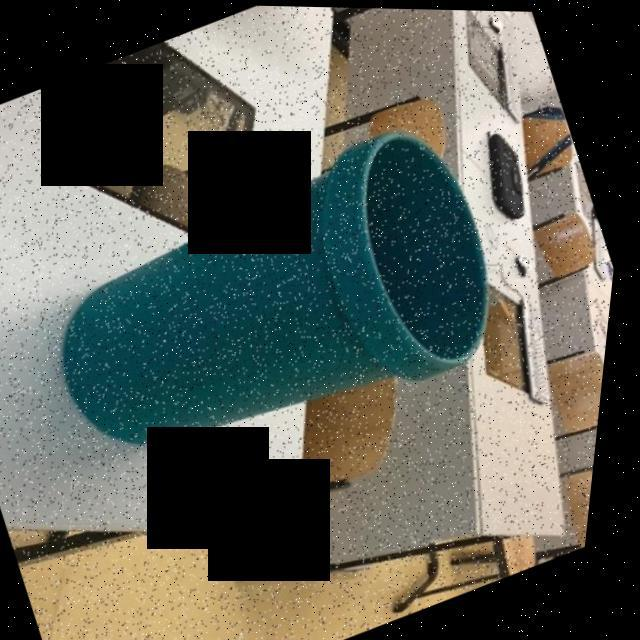bin: (0, 55, 582, 524)
